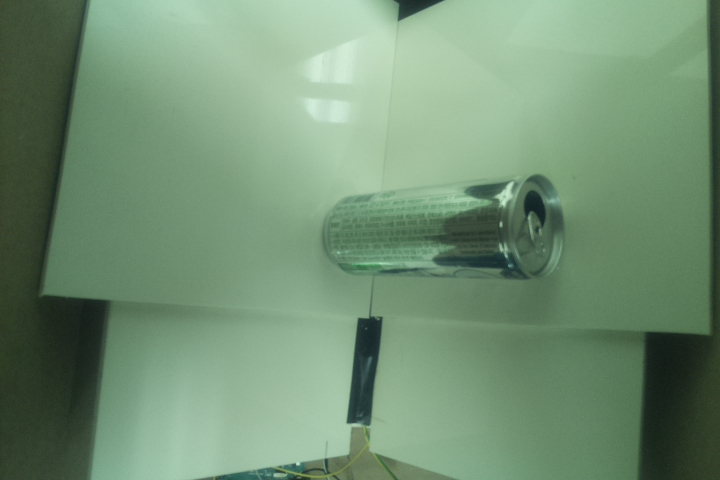can: (318, 170, 565, 285)
